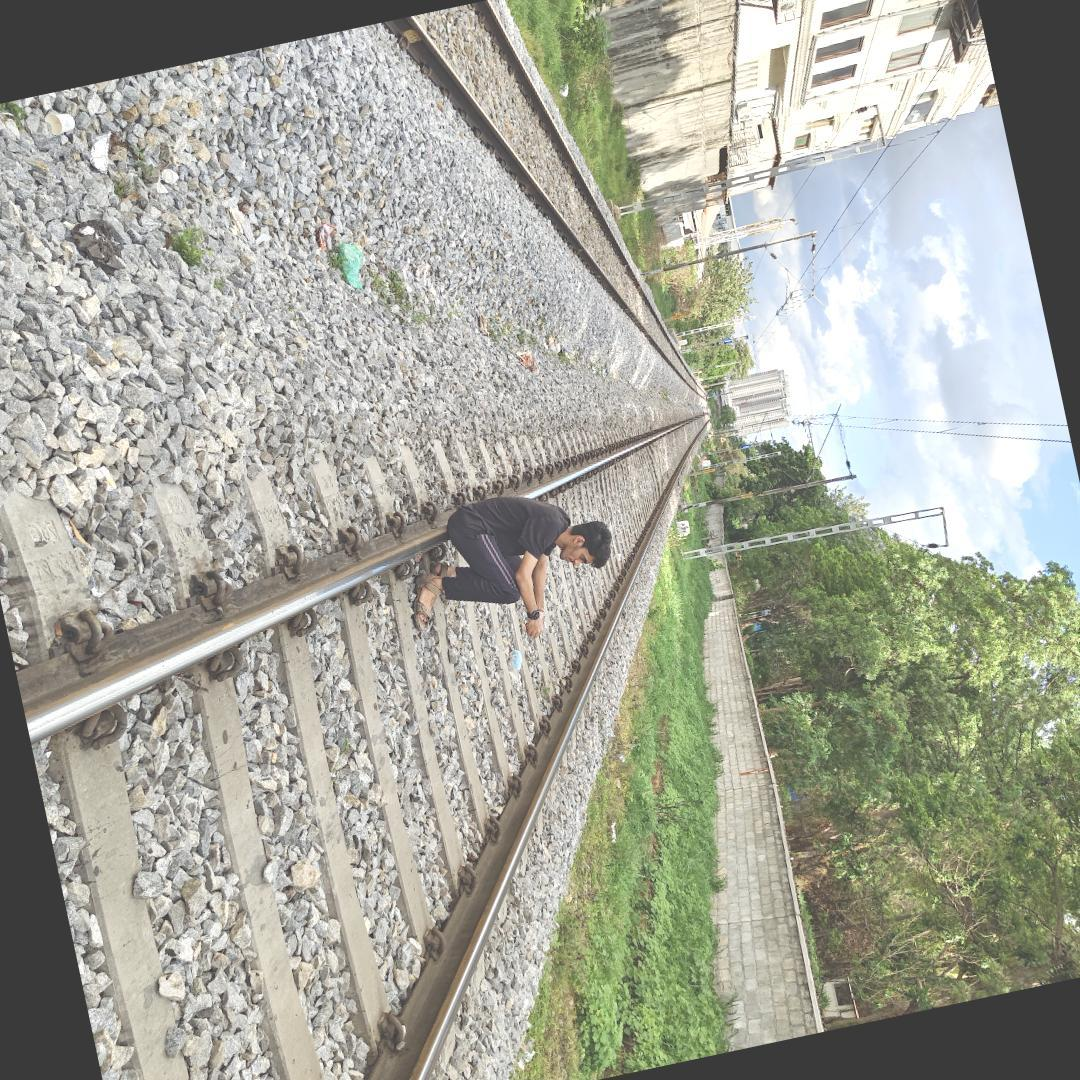sitting: (408, 468, 638, 646)
